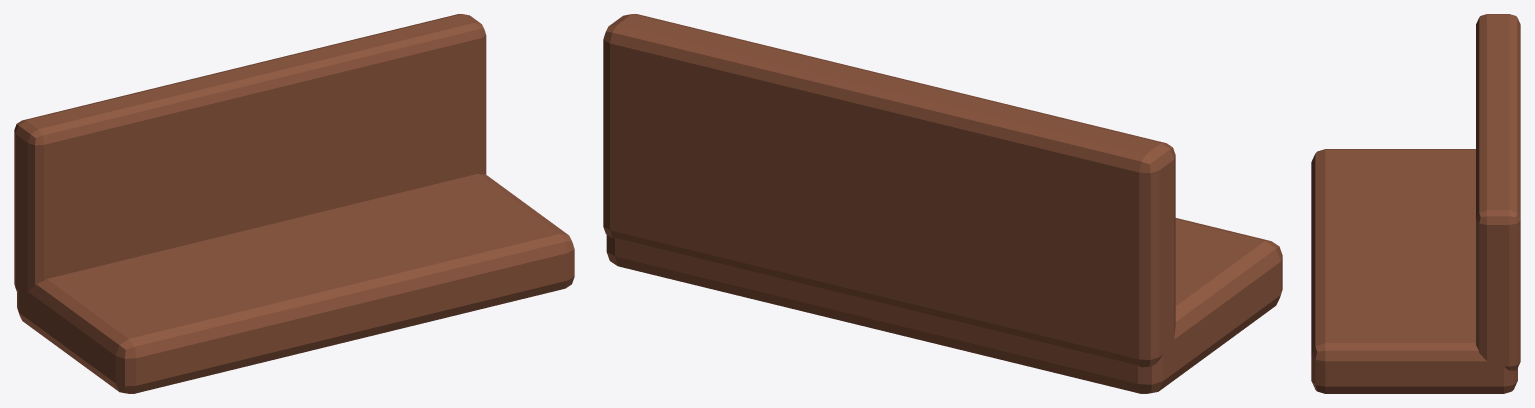
Rendered from module_passenger_bench_v01.glb.
The picture shows the model from 3 angles, left to right: view 1: azimuth 30°, elevation 25°; view 2: azimuth 150°, elevation 25°; view 3: azimuth 270°, elevation 25°; orthographic projection. The views are drawn at different scales.
Visible parts, largest first — view 1: GEO_PassengerBack, GEO_PassengerBench; view 2: GEO_PassengerBack, GEO_PassengerBench; view 3: GEO_PassengerBench, GEO_PassengerBack.
Boxes of the visible parts, x1,y1,x2,y2 form: GEO_PassengerBack: [14, 14, 486, 296]; GEO_PassengerBench: [17, 174, 574, 393]; GEO_PassengerBack: [603, 14, 1175, 367]; GEO_PassengerBench: [606, 218, 1282, 393]; GEO_PassengerBench: [1311, 149, 1517, 393]; GEO_PassengerBack: [1476, 14, 1520, 370].
Size of the model in its own units: 1.74 by 0.73 by 0.75.
